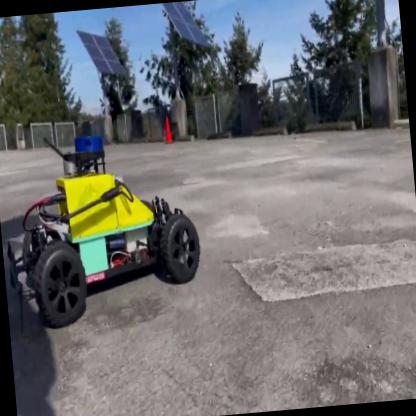cone: (162, 116, 174, 144)
mushr_car: (0, 120, 207, 330)
